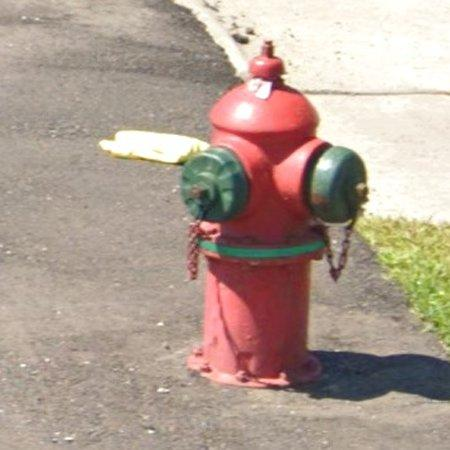a fire hydrant: (181, 40, 368, 387)
